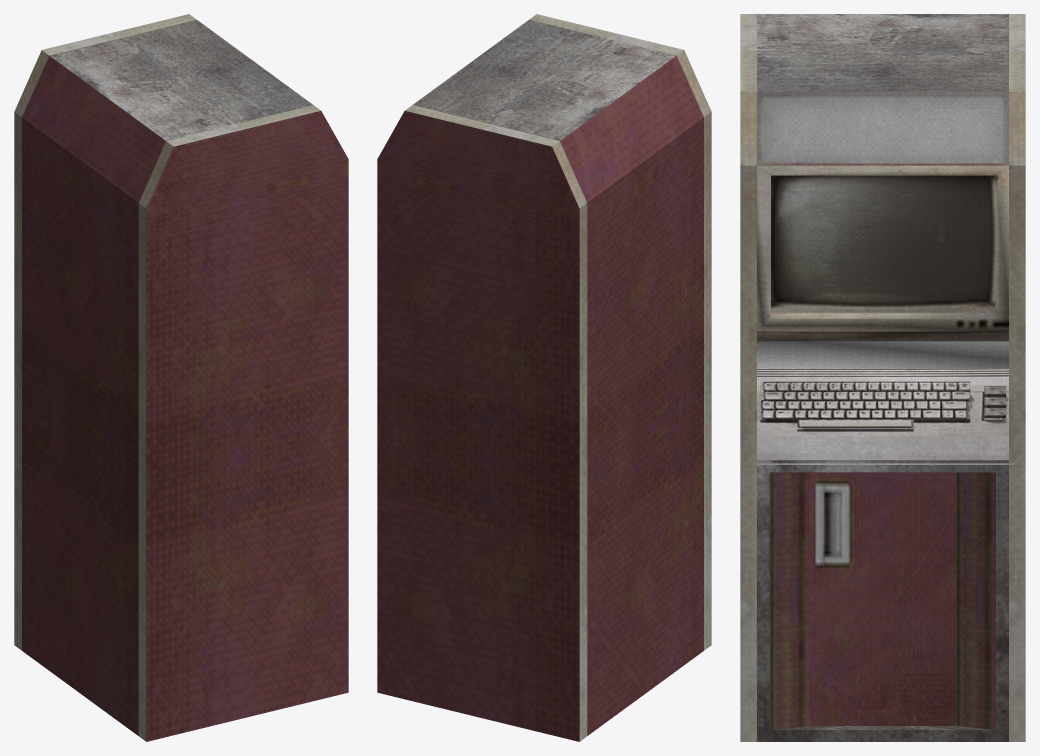
The model's file is Terminal.fbx.
The picture shows the model from 3 angles, left to right: view 1: azimuth 30°, elevation 25°; view 2: azimuth 150°, elevation 25°; view 3: azimuth 270°, elevation 25°; orthographic projection. The views are drawn at different scales.
Parts seen in each view (by area): view 1: Cube; view 2: Cube; view 3: Cube.
Part boxes in pixels (x1,y1,x2,y2): Cube: [14, 14, 348, 741]; Cube: [377, 14, 711, 741]; Cube: [740, 14, 1025, 741].
Size of the model in its own units: 101 by 281 by 114.
